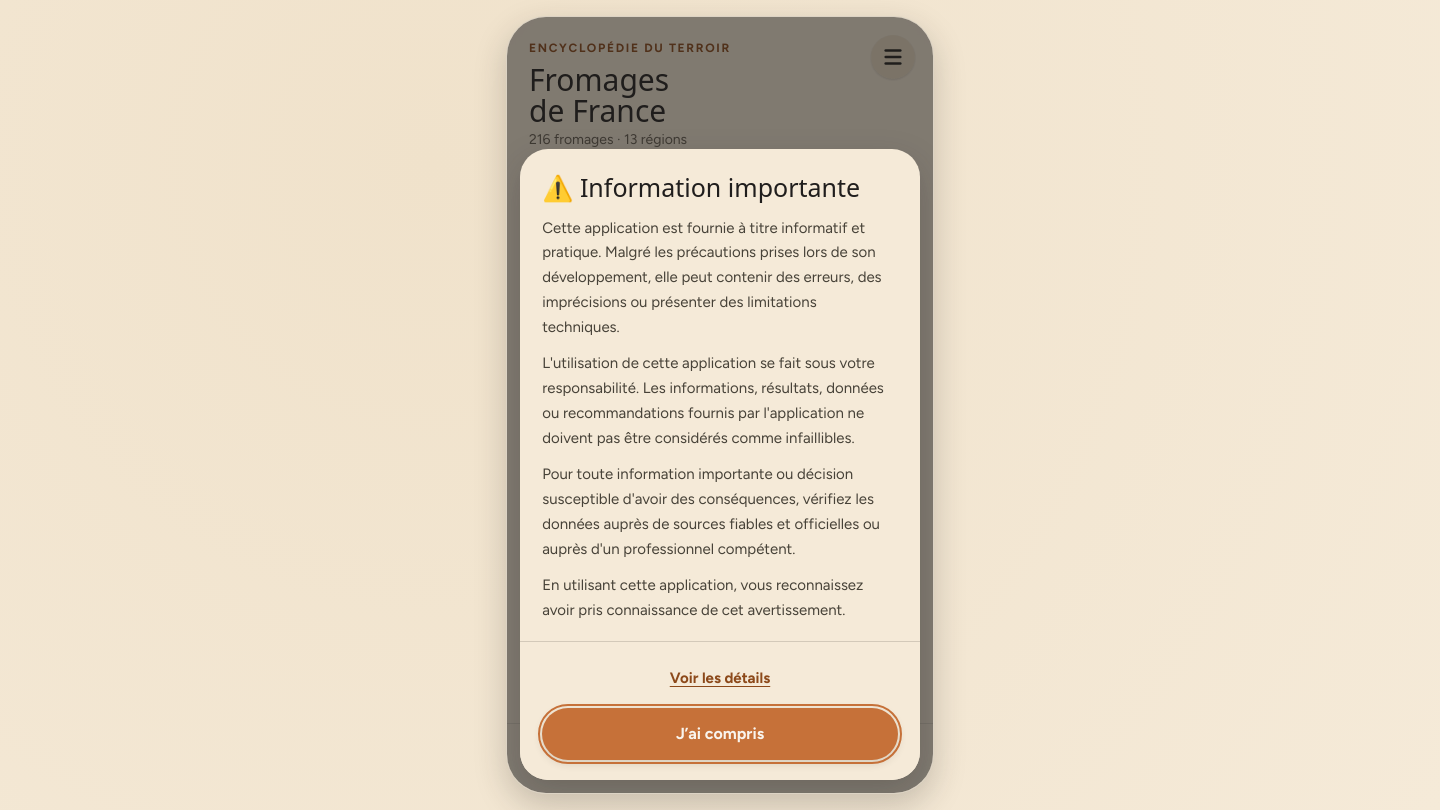
Premier lancement au sein de l'application complète › affiche l'avertissement par-dessus l'application, puis laisse la main
This screenshot has width=1440, height=810.
Expected: the heading "⚠️ Information importante" is shown, [542,173,898,202]
Click the button "J’ai compris" at [720, 734], box [542,708,898,760]
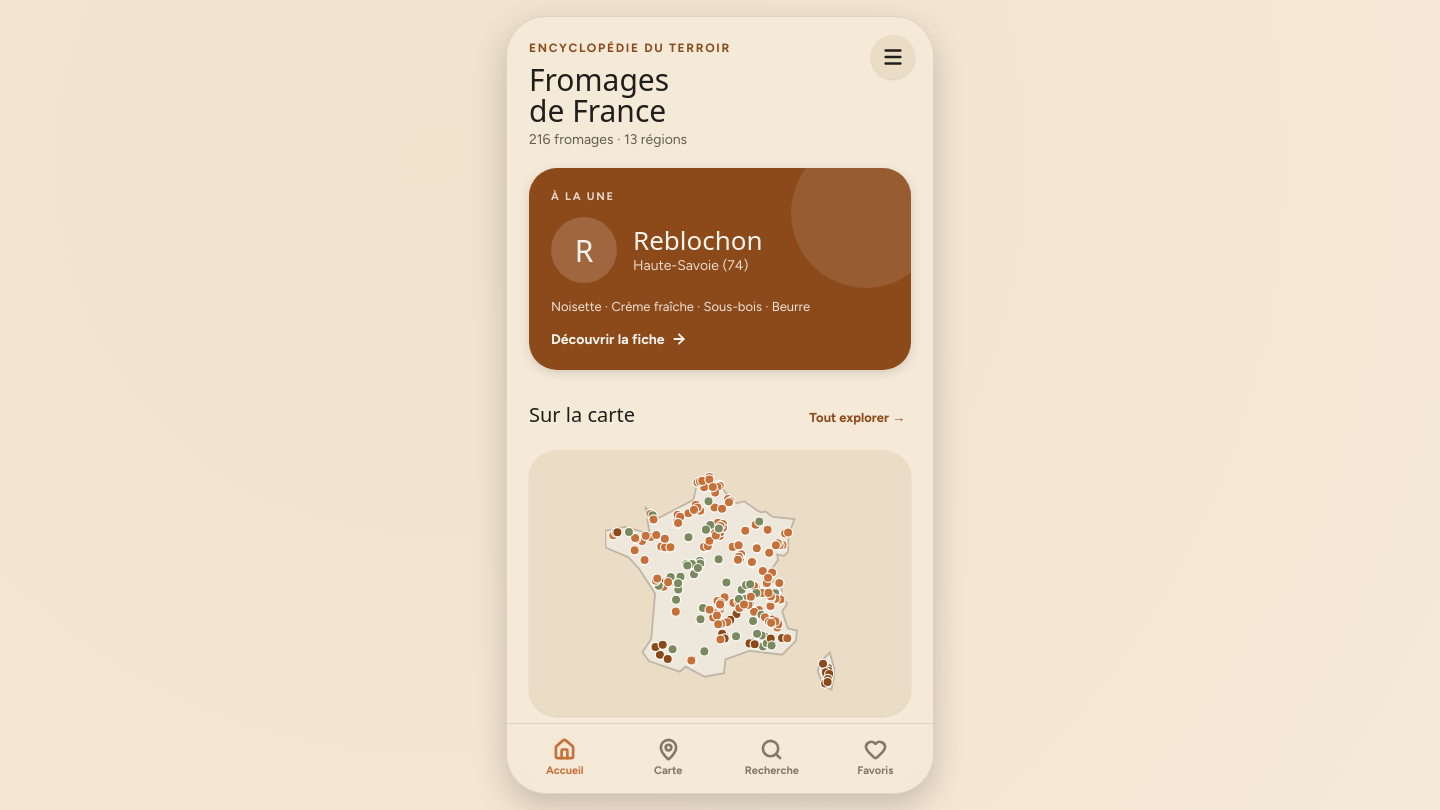
Expected: the button named "Ouvrir le menu" is shown, [871,35,915,79]
Result: the dialog is gone
